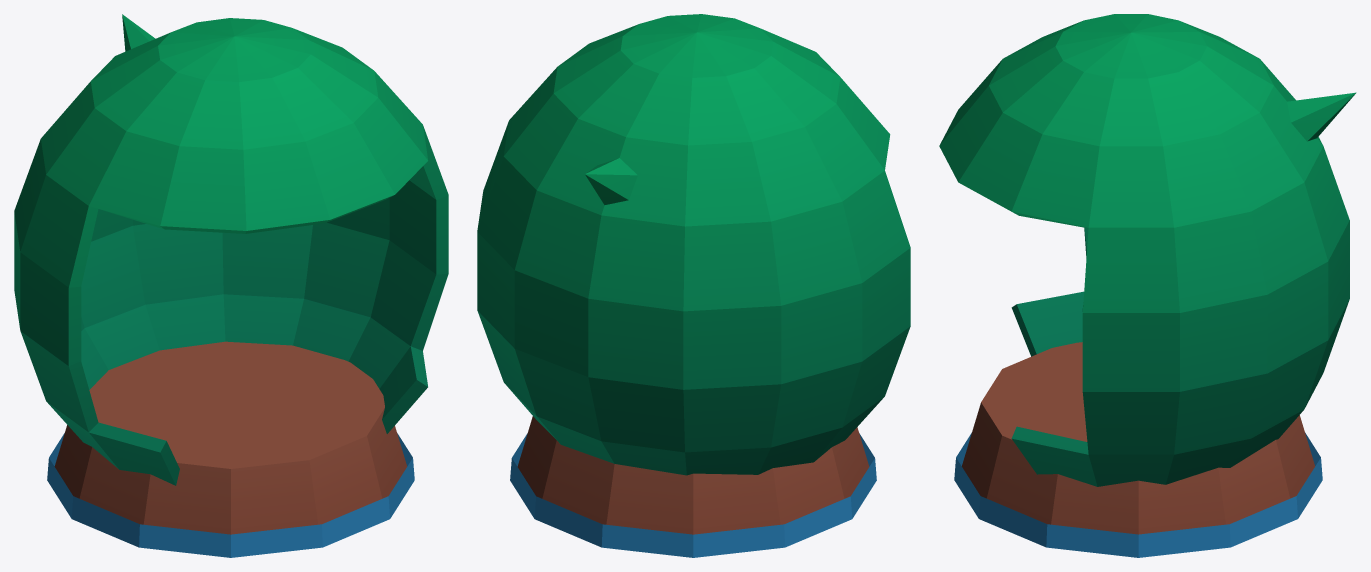
File: hunter_helm_t2.glb
3 views of the same model, side by side, from view 1: azimuth 30°, elevation 25°; view 2: azimuth 150°, elevation 25°; view 3: azimuth 270°, elevation 25° (orthographic).
Visible parts, largest first — view 1: hunter_helm_t2__head; view 2: hunter_helm_t2__head; view 3: hunter_helm_t2__head.
Boxes of the visible parts, x1,y1,x2,y2 form: hunter_helm_t2__head: [14, 14, 448, 557]; hunter_helm_t2__head: [477, 14, 910, 557]; hunter_helm_t2__head: [939, 14, 1356, 557].
Bounding box in the file's own units: 1.23 × 1.38 × 1.17.
Materials: 1 (1 with a texture image).
